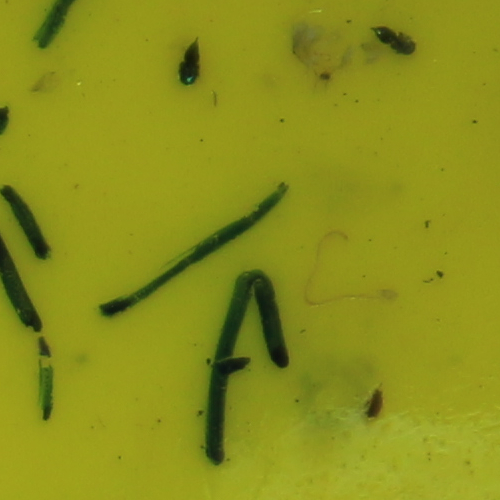Psyllaephagus: (172, 31, 207, 91)
